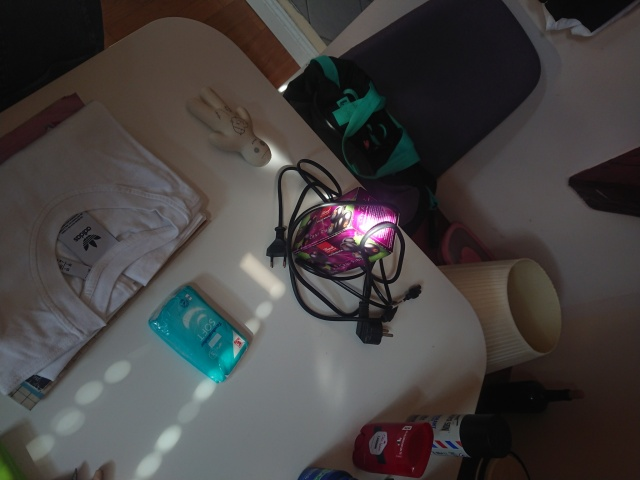Franck Black Currant Tea 60g: (289, 184, 403, 279)
